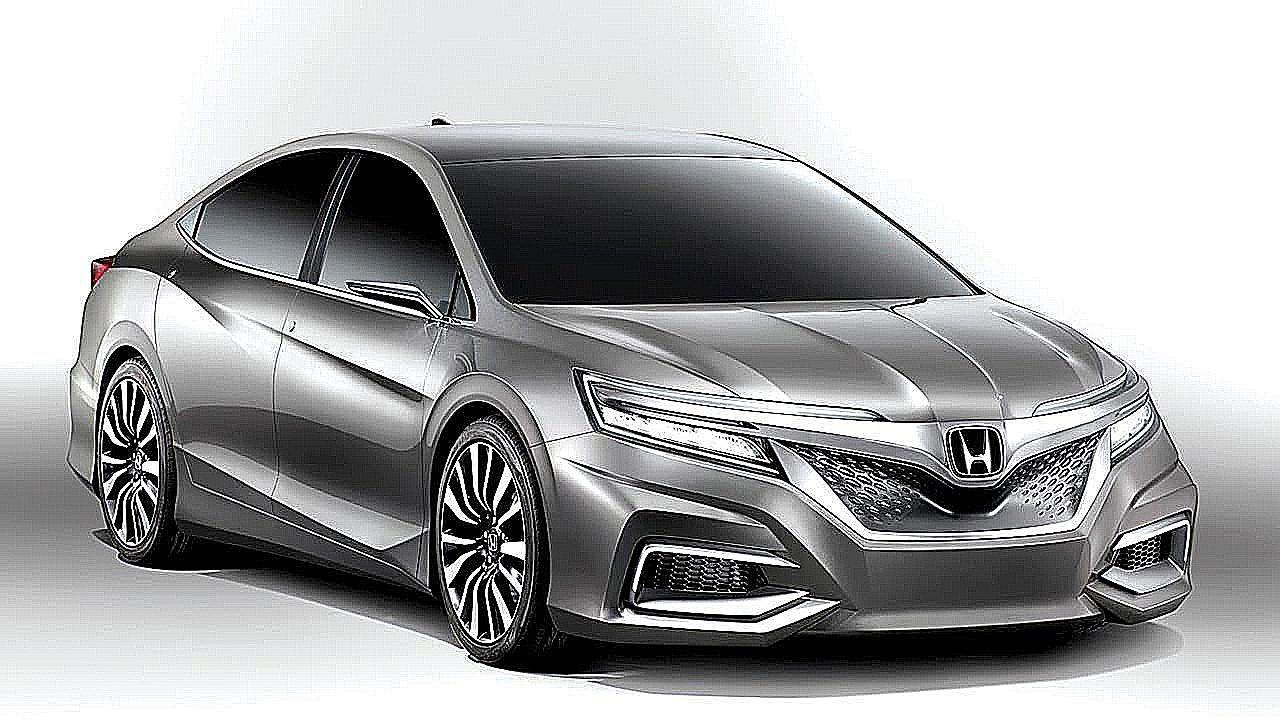Car hood: (503, 298, 1147, 438)
Driver-s door - -F-R-: (259, 120, 473, 597)
Fender - -F-R-: (417, 295, 609, 592)
Fender - -R-R-: (61, 189, 200, 400)
Front bumper: (521, 430, 1201, 652)
Headlight - -L-: (1107, 392, 1165, 476)
Headlight - -R-: (567, 365, 786, 489)
Passenger-s door - -R-R-: (146, 117, 349, 570)
Rear bumper: (59, 357, 116, 504)
Rear light - -R-: (87, 248, 116, 296)
Side bumper - -R-: (166, 455, 448, 612)
Side mirror - -R-: (347, 278, 450, 332)
